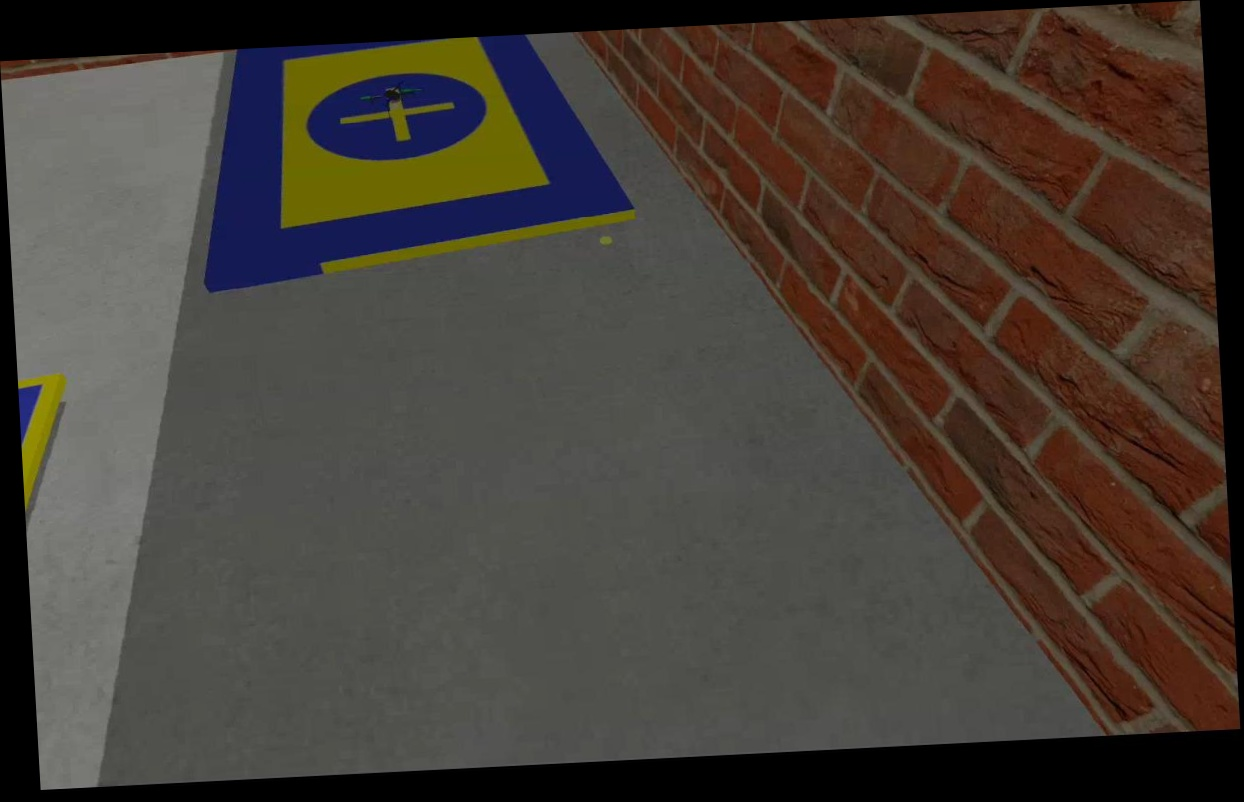large_base: (193, 29, 644, 294)
